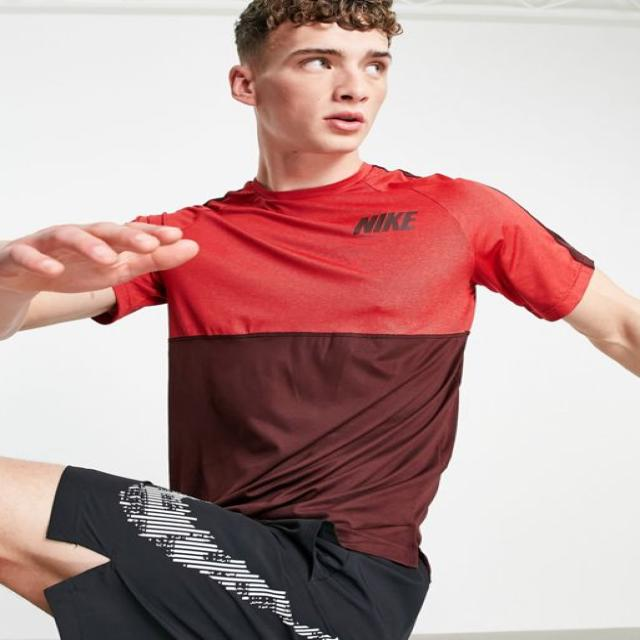tshirt: (93, 161, 592, 566)
